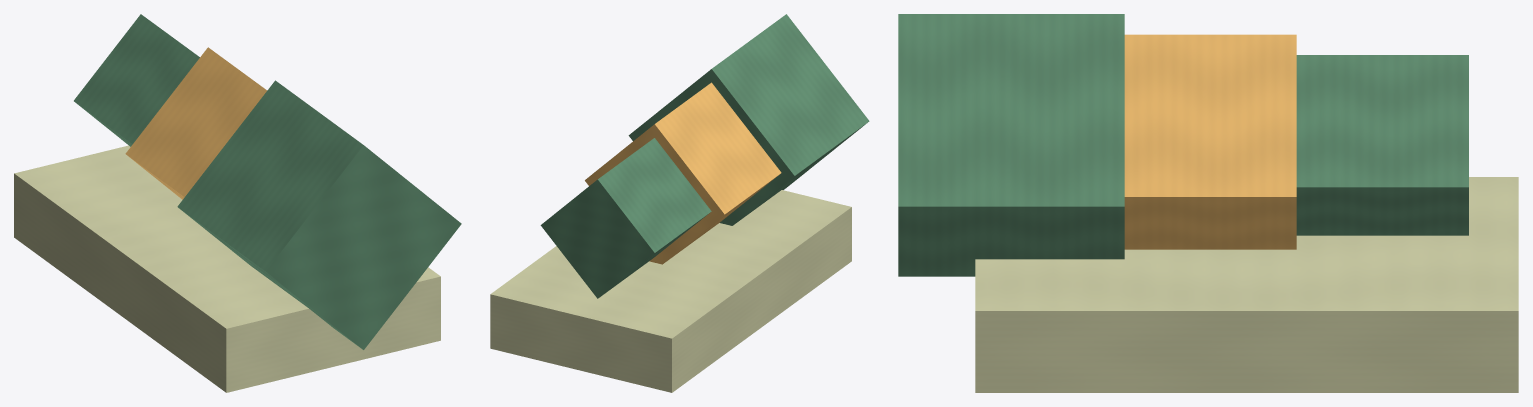
The model's file is atlas100-s003-a05.lod2.glb.
3 renders of one model, left to right at view 1: azimuth 30°, elevation 25°; view 2: azimuth 150°, elevation 25°; view 3: azimuth 270°, elevation 25°, orthographic. The views are drawn at different scales.
Parts seen in each view (by area): view 1: atlas100-s003-a05:part-004, atlas100-s003-a05:part-002, atlas100-s003-a05:part-001, atlas100-s003-a05:part-000; view 2: atlas100-s003-a05:part-004, atlas100-s003-a05:part-002, atlas100-s003-a05:part-000, atlas100-s003-a05:part-001; view 3: atlas100-s003-a05:part-004, atlas100-s003-a05:part-002, atlas100-s003-a05:part-001, atlas100-s003-a05:part-000.
Part boxes in pixels (bbox=[...]): atlas100-s003-a05:part-004: bbox=[14, 145, 440, 392]; atlas100-s003-a05:part-002: bbox=[177, 80, 461, 349]; atlas100-s003-a05:part-001: bbox=[125, 47, 267, 199]; atlas100-s003-a05:part-000: bbox=[74, 14, 199, 146]; atlas100-s003-a05:part-004: bbox=[490, 190, 851, 392]; atlas100-s003-a05:part-002: bbox=[628, 14, 869, 225]; atlas100-s003-a05:part-000: bbox=[540, 138, 711, 298]; atlas100-s003-a05:part-001: bbox=[585, 82, 781, 264]; atlas100-s003-a05:part-004: bbox=[975, 177, 1518, 392]; atlas100-s003-a05:part-002: bbox=[898, 14, 1124, 276]; atlas100-s003-a05:part-001: bbox=[1124, 34, 1296, 249]; atlas100-s003-a05:part-000: bbox=[1296, 55, 1468, 235].
Bounding box in the file's own units: 0.3822 × 0.415 × 0.748.
Materials: 3 (3 with a texture image).
